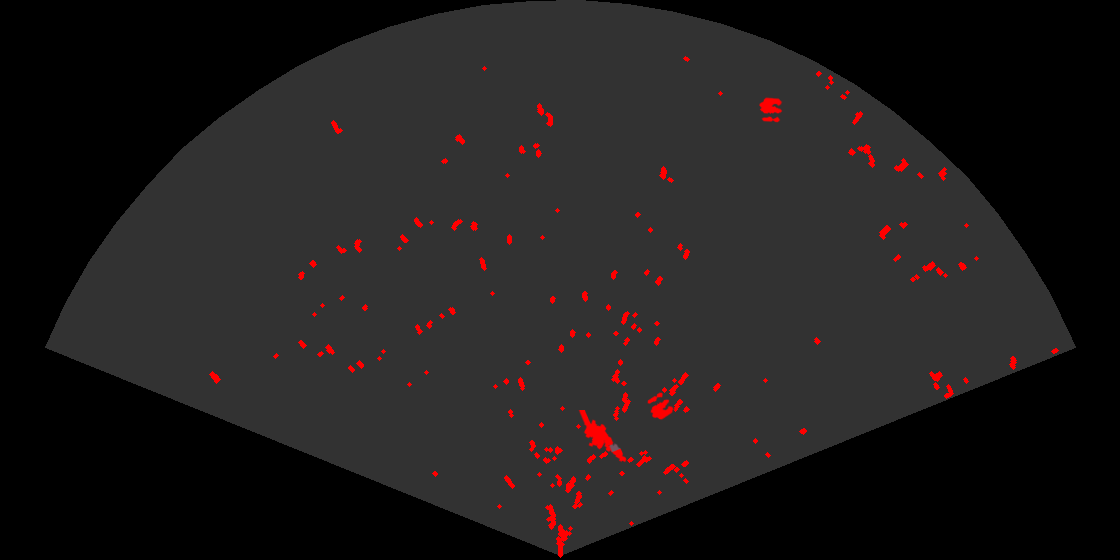ball: (646, 391, 675, 421), (758, 96, 784, 124)
frogman: (577, 410, 628, 464)
